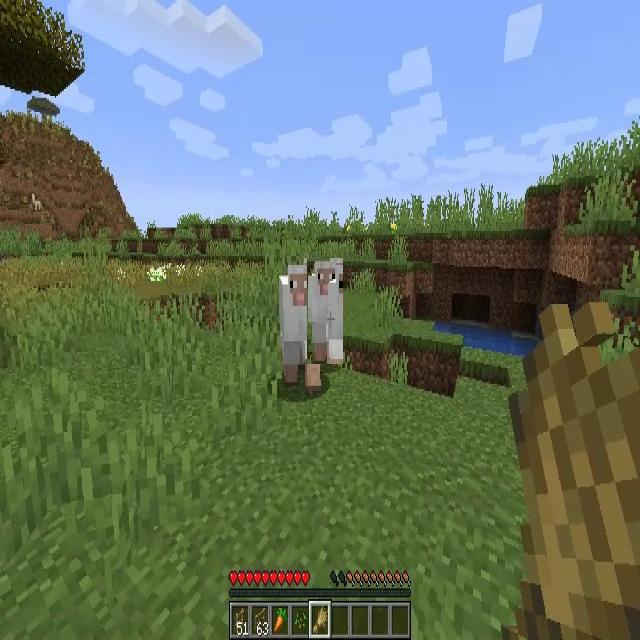sheep: (280, 268, 322, 390), (307, 258, 343, 364)
